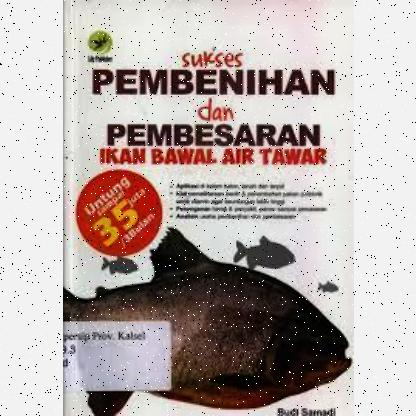ikan-pacu: (62, 258, 352, 398)
